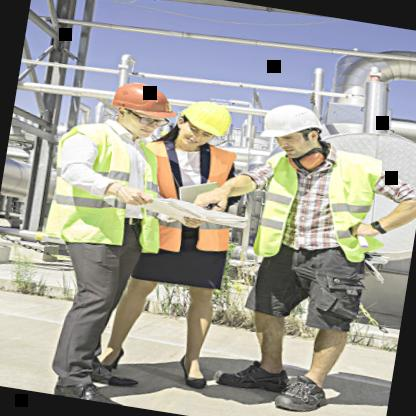helmet: (251, 91, 336, 176), (96, 66, 188, 144), (166, 90, 242, 152)
